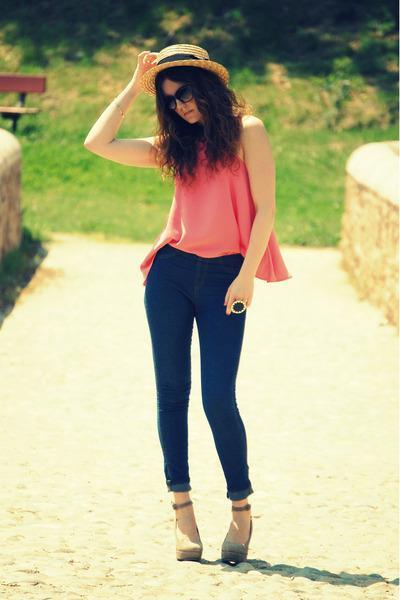hat: (125, 44, 227, 83)
pants: (144, 243, 253, 500)
shirt: (140, 147, 290, 282)
shoe: (177, 537, 251, 567)
sunglass: (155, 91, 179, 126)
